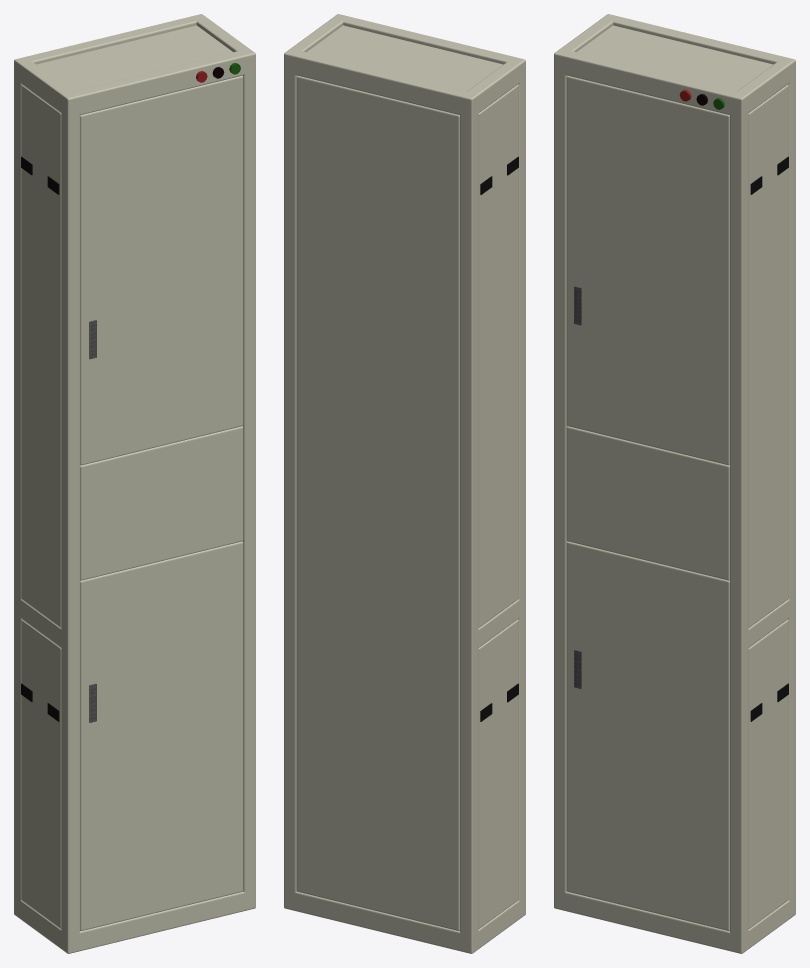
Rendered from LTG.FBX.
3 views of the same model, side by side, from view 1: azimuth 30°, elevation 25°; view 2: azimuth 150°, elevation 25°; view 3: azimuth 330°, elevation 25° (orthographic).
Parts seen in each view (by area): view 1: 列头柜0.3*0.6*2.6; view 2: 列头柜0.3*0.6*2.6; view 3: 列头柜0.3*0.6*2.6.
Part boxes in pixels (x1,y1,x2,y2): 列头柜0.3*0.6*2.6: (14,14,255,953); 列头柜0.3*0.6*2.6: (284,14,525,953); 列头柜0.3*0.6*2.6: (554,14,795,953).
Bounding box in the file's own units: 605 × 2600 × 309.
Materials: 6 (1 with a texture image).
